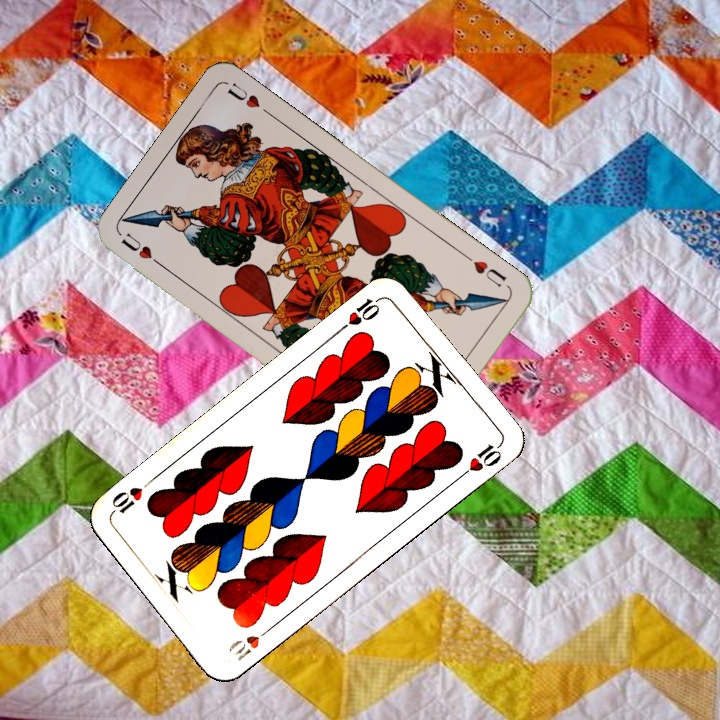H10: (224, 622, 276, 664), (334, 292, 385, 334)
HU: (117, 229, 168, 271), (460, 250, 510, 290)
